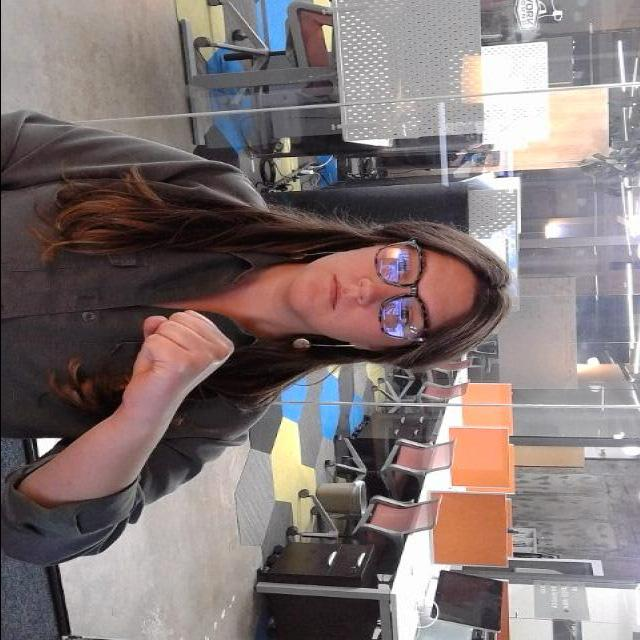Rock: (113, 298, 235, 429)
